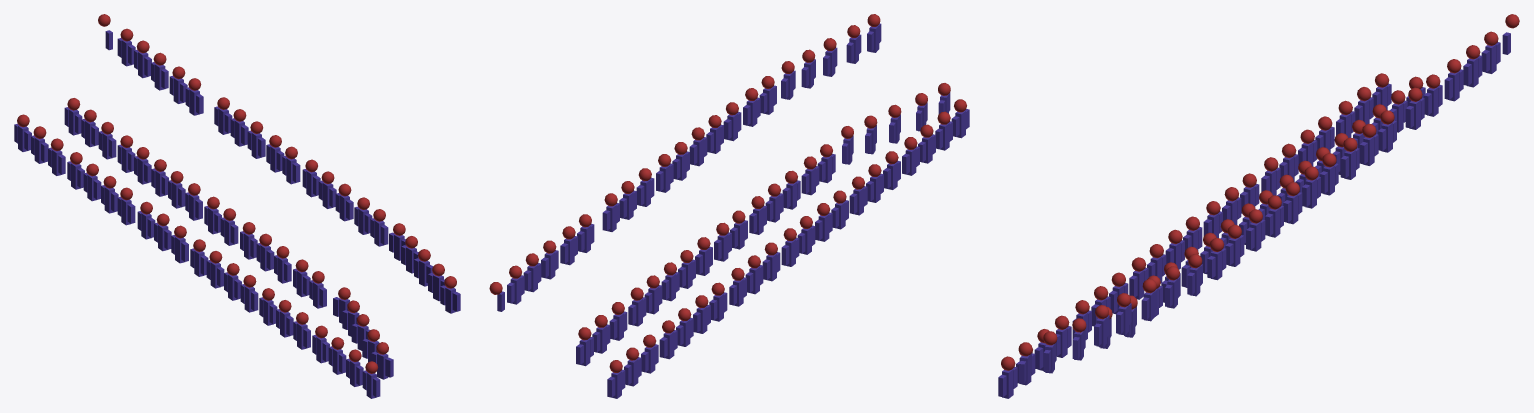
File: supporter2.obj
The picture shows the model from 3 angles, left to right: view 1: azimuth 30°, elevation 25°; view 2: azimuth 150°, elevation 25°; view 3: azimuth 330°, elevation 25°; orthographic projection. The views are drawn at different scales.
Size of the model in its own units: 10.59 by 8.57 by 57.77.
